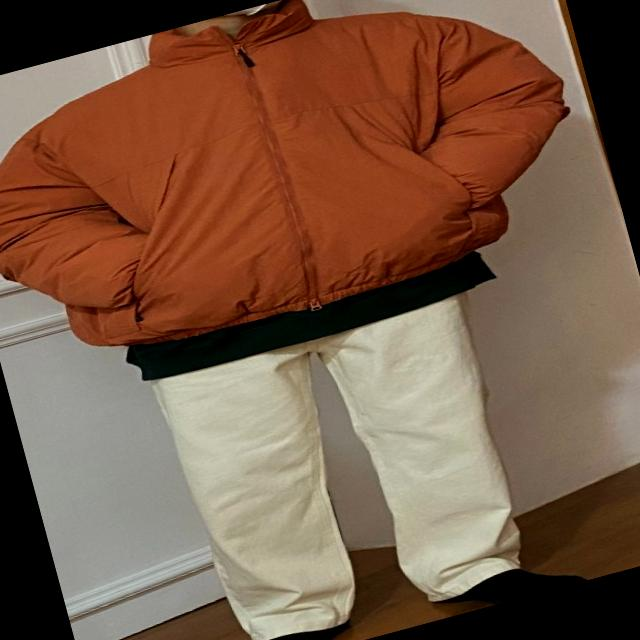cottonpants: (148, 292, 545, 640)
padding: (0, 0, 607, 393)
